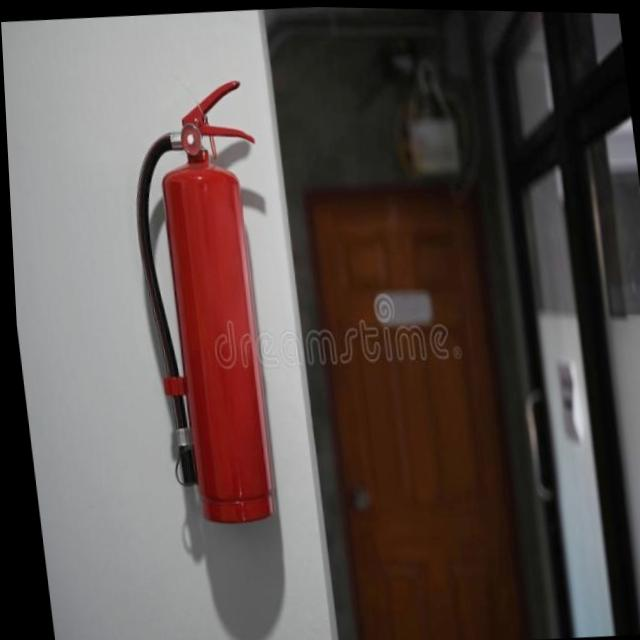FireExtinguisher: (114, 69, 298, 529)
